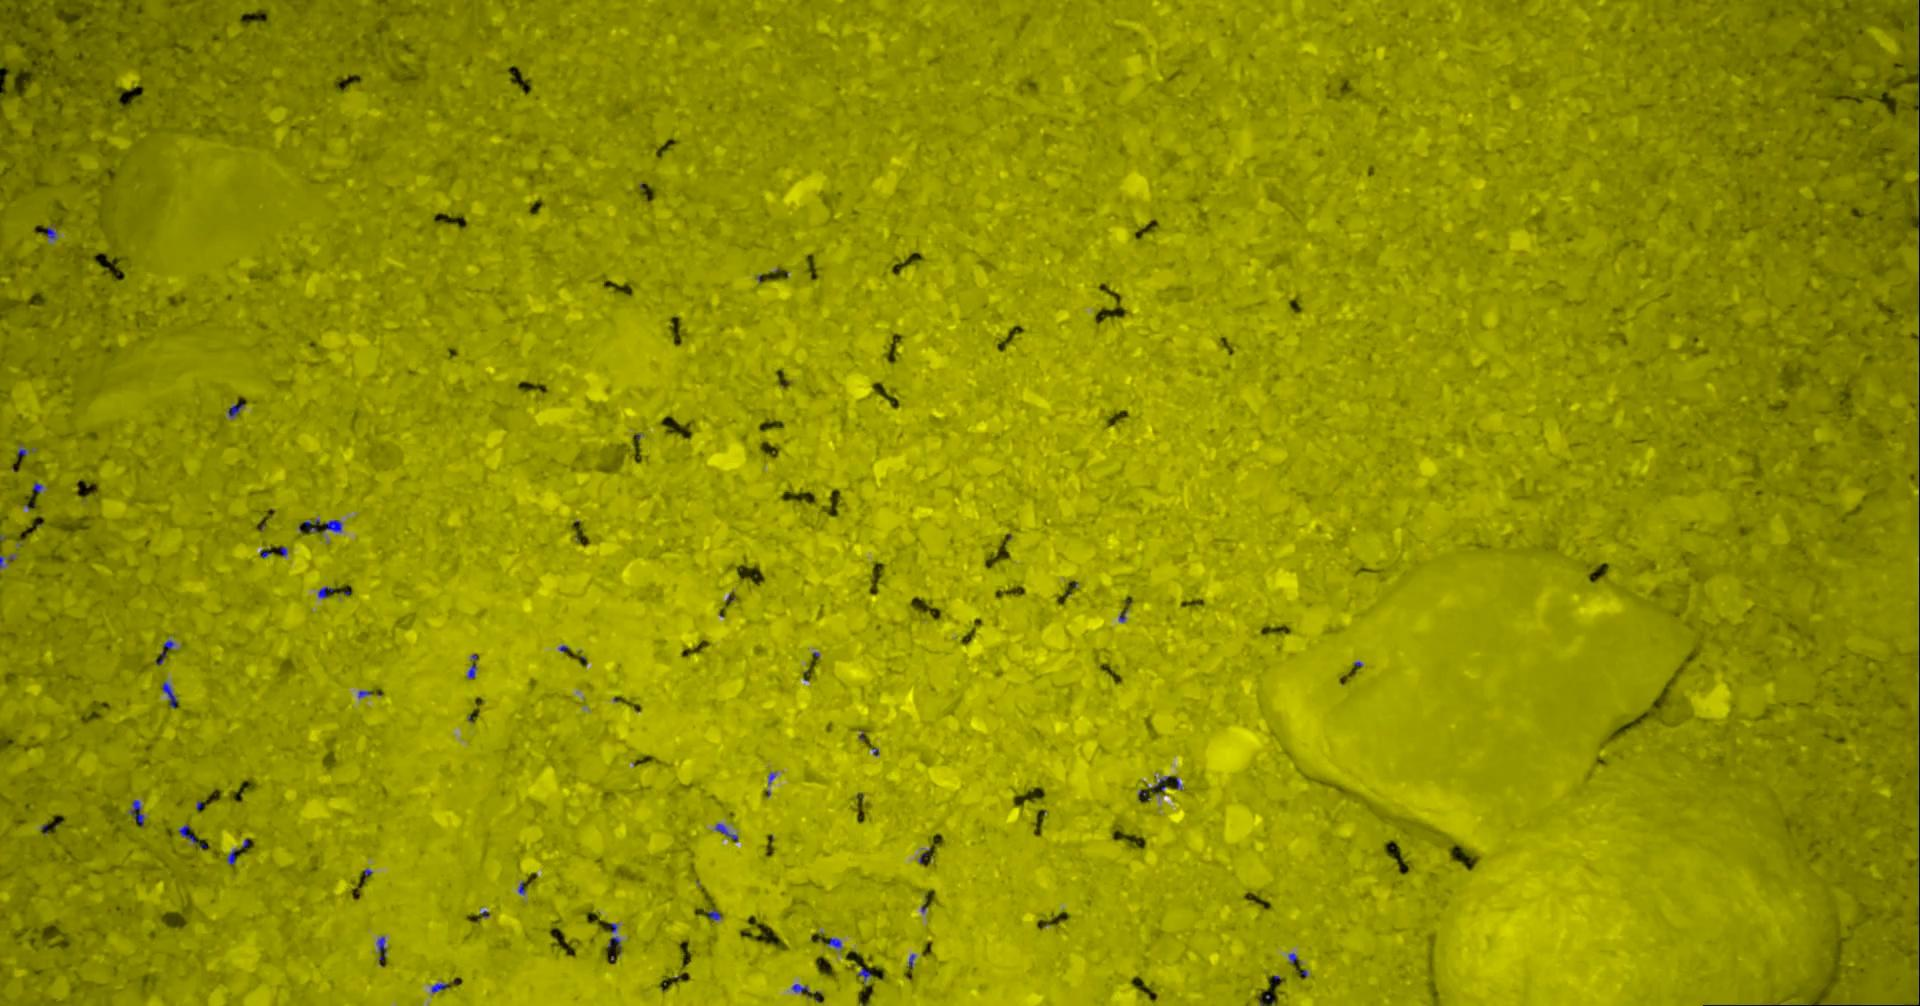ant: (157, 639, 177, 664), (163, 681, 179, 708), (131, 799, 146, 826), (716, 823, 739, 840), (179, 824, 197, 843), (229, 403, 245, 418), (325, 520, 343, 532), (469, 653, 477, 678), (378, 936, 387, 960), (319, 586, 334, 598), (229, 848, 241, 864), (305, 520, 321, 531), (433, 983, 450, 992)
